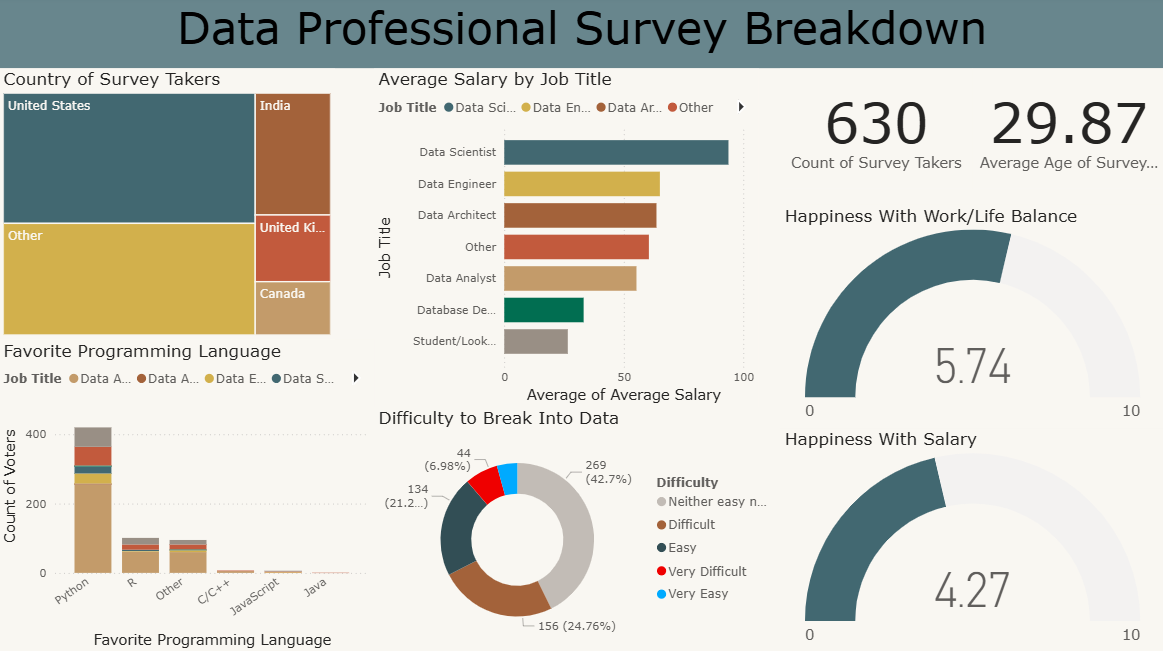

The page's visual inventory and layout, read from the dashboard file:
{"tool":"powerbi","page":{"name":"Page 1","canvas":[1280,720],"ordinal":0},"visuals":[{"type":"textbox","box":[0,0,1280.3,79.1],"z":0},{"type":"card","fields":{"Values":["Count(Data Professional Survey.Unique ID)"]},"box":[857.6,79.6,211.3,131.7],"z":1000},{"type":"card","fields":{"Values":["Avg(Data Professional Survey.Q10 - Current Age)"]},"box":[1069,79.6,211.3,131.7],"z":2000},{"type":"barChart","title":"Average Salary by Job Title","fields":{"Category":["Data Professional Survey.Q1 - Which Title Best Fits your Current Role?.1"],"Y":["Avg(Data Professional Survey.Average Salary)"],"Series":["Data Professional Survey.Q1 - Which Title Best Fits your Current Role?.1"]},"box":[411.7,79.6,422.6,371.9],"z":3000},{"type":"columnChart","title":"Favorite Programming Language","fields":{"Category":["Data Professional Survey.Q5 - Favorite Programming Language.1"],"Y":["CountNonNull(Data Professional Survey.Unique ID)"],"Series":["Data Professional Survey.Q1 - Which Title Best Fits your Current Role?.1"]},"box":[0,377.4,411.7,343.1],"z":4000},{"type":"treemap","title":"Country of Survey Takers","fields":{"Group":["Data Professional Survey.Q11 - Which Country do you live in?.1"],"Values":["CountNonNull(Data Professional Survey.Q11 - Which Country do you live in?.1)"]},"box":[0,79.6,369.1,297.8],"z":5000},{"type":"gauge","title":"Happiness With Work/Life Balance","fields":{"Y":["Avg(Data Professional Survey.Q6 - How Happy are you in your Current Position with the following? (Work/Life Balance))"],"MinValue":["Min(Data Professional Survey.Q6 - How Happy are you in your Current Position with the following? (Work/Life Balance))"],"MaxValue":["Max(Data Professional Survey.Q6 - How Happy are you in your Current Position with the following? (Work/Life Balance))"]},"box":[857.6,229.2,422.6,245.6],"z":6000},{"type":"gauge","title":"Happiness With Salary","fields":{"Y":["Avg(Data Professional Survey.Q6 - How Happy are you in your Current Position with the following? (Salary))"],"MinValue":["Min(Data Professional Survey.Q6 - How Happy are you in your Current Position with the following? (Salary))"],"MaxValue":["Max(Data Professional Survey.Q6 - How Happy are you in your Current Position with the following? (Salary))"]},"box":[857.6,474.8,422.6,245.6],"z":7000},{"type":"donutChart","title":"Difficulty to Break Into Data","fields":{"Category":["Data Professional Survey.Q7 - How difficult was it for you to break into Data?"],"Y":["CountNonNull(Data Professional Survey.Q7 - How difficult was it for you to break into Data?)"]},"box":[411.7,451.5,446,269],"z":8000}]}

Visuals, with their boxes in screenshot pixels (x1, y1, x2, y2), scaled from the page's 1280x720 canvas onto the 1163x651 screenshot:
textbox: rect(0, 0, 1162, 72)
card - Count(Data Professional Survey.Unique ID): rect(779, 72, 971, 191)
card - Avg(Data Professional Survey.Q10 - Current Age): rect(971, 72, 1162, 191)
"Average Salary by Job Title" barChart: rect(374, 72, 758, 408)
"Favorite Programming Language" columnChart: rect(0, 341, 374, 650)
"Country of Survey Takers" treemap: rect(0, 72, 335, 341)
"Happiness With Work/Life Balance" gauge: rect(779, 207, 1162, 429)
"Happiness With Salary" gauge: rect(779, 429, 1162, 650)
"Difficulty to Break Into Data" donutChart: rect(374, 408, 779, 650)
